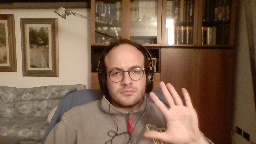Mano_aperta: (140, 77, 200, 143)
